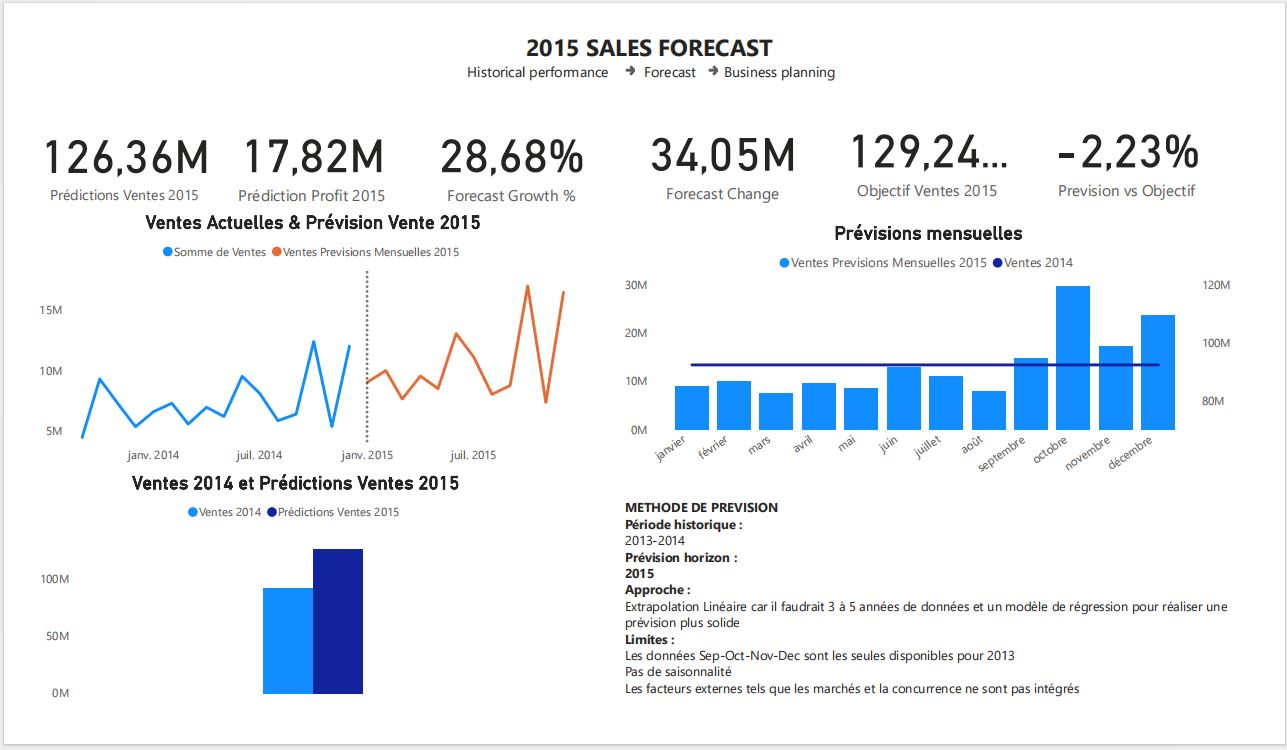

This screenshot's page, from the dashboard's own definition file:
{"tool":"powerbi","page":{"name":"Prévisions des ventes et planification commerciale","canvas":[1280,720],"ordinal":2},"visuals":[{"type":"textbox","box":[7.4,0,1272.2,75.9],"z":0},{"type":"actionButton","box":[616.1,37.5,23.2,17.9],"z":1000},{"type":"card","fields":{"Values":["financials.Prédictions Ventes 2015"]},"box":[0,61.1,201.9,125.9],"z":3000},{"type":"card","fields":{"Values":["financials.Prédiction Profit 2015"]},"box":[201.9,59.3,200,125.9],"z":4000},{"type":"card","fields":{"Values":["financials.Forecast Growth %"]},"box":[401.9,61.1,238.9,125.9],"z":5000},{"type":"card","fields":{"Values":["financials.Prevision vs Objectif"]},"box":[1001.9,64.8,277.8,116.7],"z":6000},{"type":"card","fields":{"Values":["financials.Objectif Ventes 2015"]},"box":[820.4,64.8,185.2,116.7],"z":7000},{"type":"lineChart","title":"Ventes Actuelles & Prévision Vente 2015","fields":{"Y":["Sum(financials.Ventes)","financials.Ventes Previsions Mensuelles 2015"],"Category":["Calendrier.Date"]},"box":[7.7,192.3,576.9,269.2],"z":8000},{"type":"clusteredColumnChart","fields":{"Y":["financials.Ventes 2014","financials.Prédictions Ventes 2015"]},"box":[7.7,461.5,541,243.6],"z":9000},{"type":"card","fields":{"Values":["financials.Forecast Change"]},"box":[640.7,61.1,200,124.1],"z":10000},{"type":"lineClusteredColumnComboChart","title":"Prévisions mensuelles","fields":{"Y2":["financials.Ventes 2014"],"Category":["Calendrier.NomMois"],"Y":["financials.Ventes Previsions Mensuelles 2015"]},"box":[615.4,202.6,638.5,282.1],"z":11000},{"type":"textbox","box":[615,485,638,221],"z":12000}]}

Visuals, with their boxes on the page's 1280x720 design canvas (x1, y1, x2, y2). These are canvas units, not pixel positions in the 1287x750 screenshot, which may show the page scaled, cropped or inside an application window:
textbox: 7/0/1280/76
actionButton: 616/38/639/55
card - financials.Prédictions Ventes 2015: 0/61/202/187
card - financials.Prédiction Profit 2015: 202/59/402/185
card - financials.Forecast Growth %: 402/61/641/187
card - financials.Prevision vs Objectif: 1002/65/1280/182
card - financials.Objectif Ventes 2015: 820/65/1006/182
"Ventes Actuelles & Prévision Vente 2015" lineChart: 8/192/585/462
clusteredColumnChart - financials.Ventes 2014 x financials.Prédictions Ventes 2015: 8/462/549/705
card - financials.Forecast Change: 641/61/841/185
"Prévisions mensuelles" lineClusteredColumnComboChart: 615/203/1254/485
textbox: 615/485/1253/706
